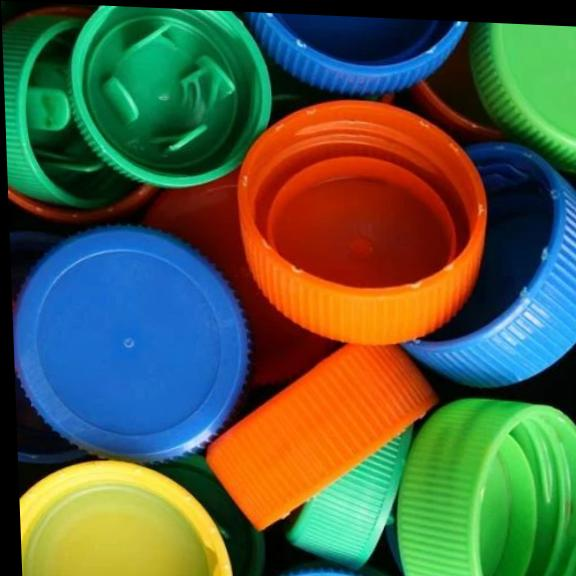Plastik: (235, 96, 487, 344), (12, 223, 247, 457), (202, 341, 440, 529), (400, 138, 576, 392), (71, 4, 272, 186), (393, 394, 576, 576), (18, 461, 231, 576)
